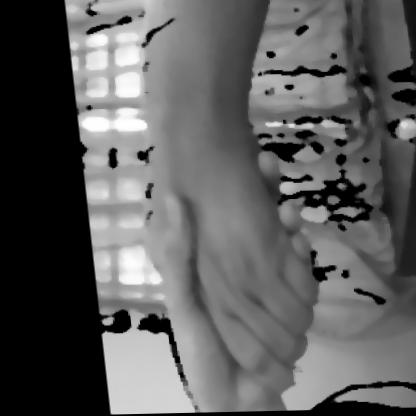handshake: (105, 0, 342, 406)
